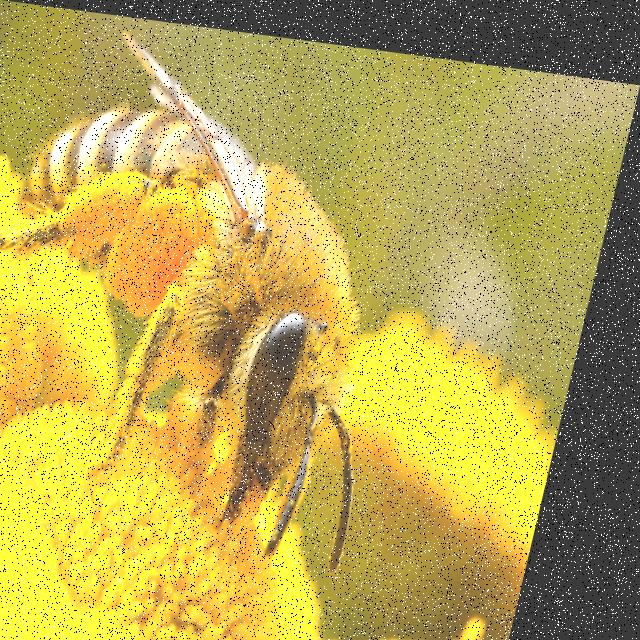Apis-mellifera-scutellata: (0, 4, 506, 565)
